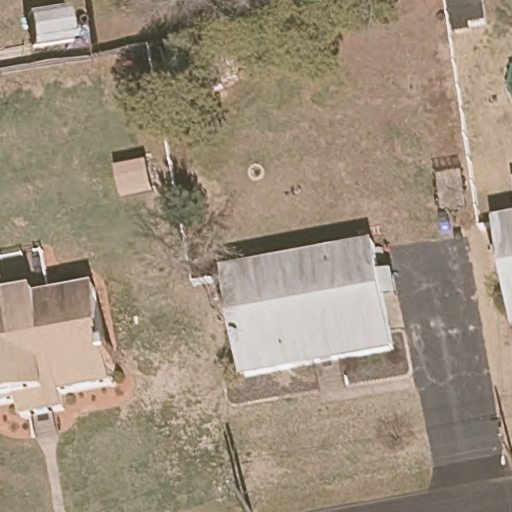DT: (224, 479, 252, 508), (496, 430, 512, 466)
